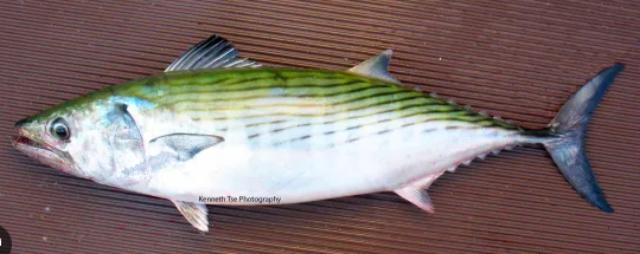Mulut: (4, 109, 64, 173)
Sirip Anal: (392, 163, 444, 219)
Sirip Dada: (150, 127, 234, 165)
Sirip Ekor: (544, 54, 632, 218)
Sirip Perut: (168, 194, 218, 238)
Sirip Punggung: (157, 26, 405, 86)
